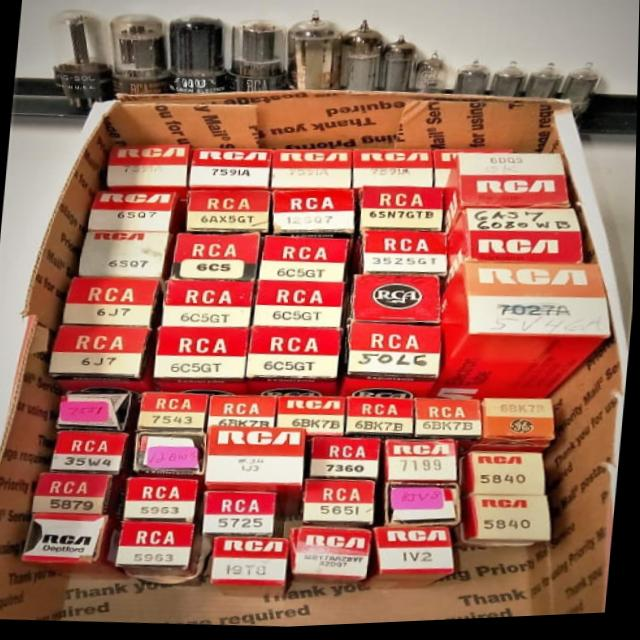box: (431, 265, 612, 406), (445, 211, 584, 293), (443, 157, 571, 239), (50, 325, 158, 409), (341, 325, 442, 402), (207, 428, 308, 495), (247, 329, 343, 399), (154, 328, 251, 397), (64, 277, 166, 334), (365, 530, 456, 592), (80, 231, 174, 289), (291, 529, 374, 587), (473, 402, 556, 457), (23, 513, 111, 564), (163, 281, 255, 329), (171, 234, 261, 283), (255, 282, 346, 330), (353, 278, 441, 327), (467, 499, 552, 549), (260, 238, 350, 285), (415, 401, 483, 461), (362, 233, 448, 280), (274, 192, 354, 241), (360, 188, 443, 235), (213, 539, 291, 589), (117, 522, 197, 570), (108, 146, 189, 193), (187, 192, 272, 235), (89, 191, 175, 233), (304, 481, 377, 530), (469, 455, 547, 500), (125, 478, 200, 524), (189, 149, 273, 190), (205, 493, 278, 540), (52, 431, 129, 475), (387, 485, 462, 530), (271, 152, 352, 193), (34, 473, 113, 515), (57, 391, 134, 433), (277, 398, 347, 444), (135, 433, 208, 477), (387, 443, 461, 486), (354, 152, 433, 192), (347, 399, 414, 445), (434, 153, 514, 191), (311, 440, 383, 481), (139, 393, 209, 435), (208, 397, 279, 435)
